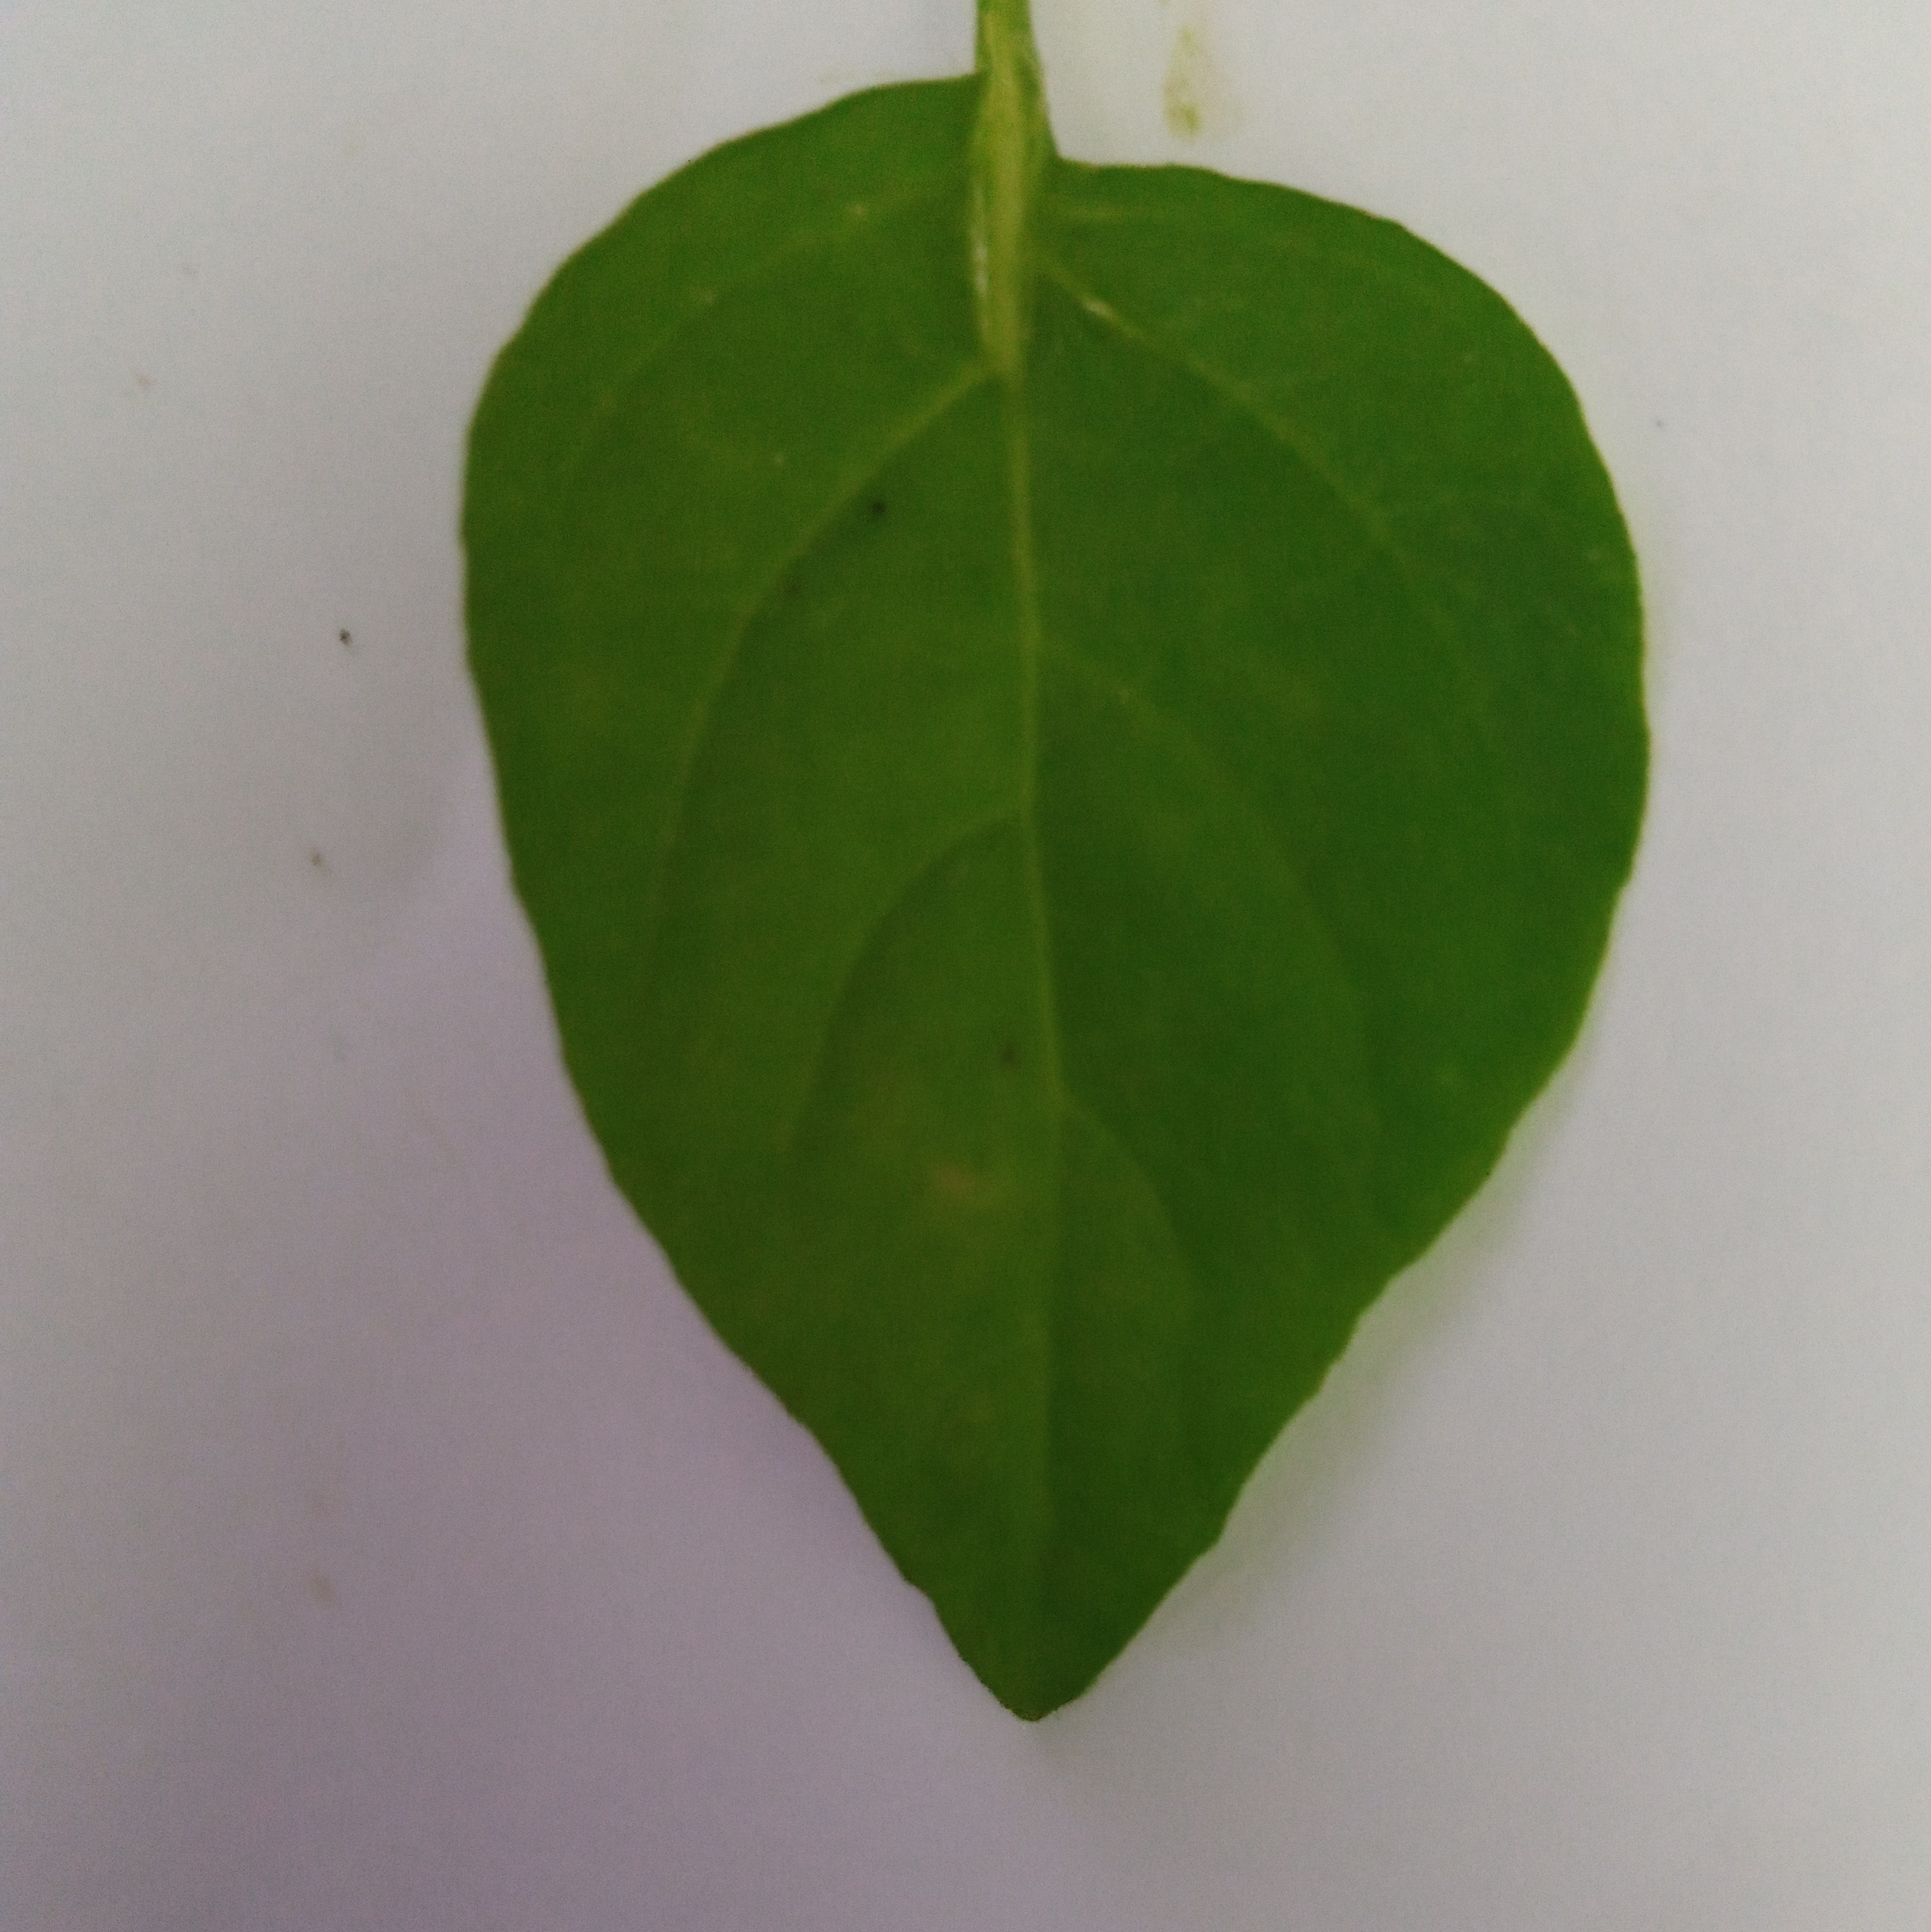Leaf: (361, 87, 1798, 1769)
